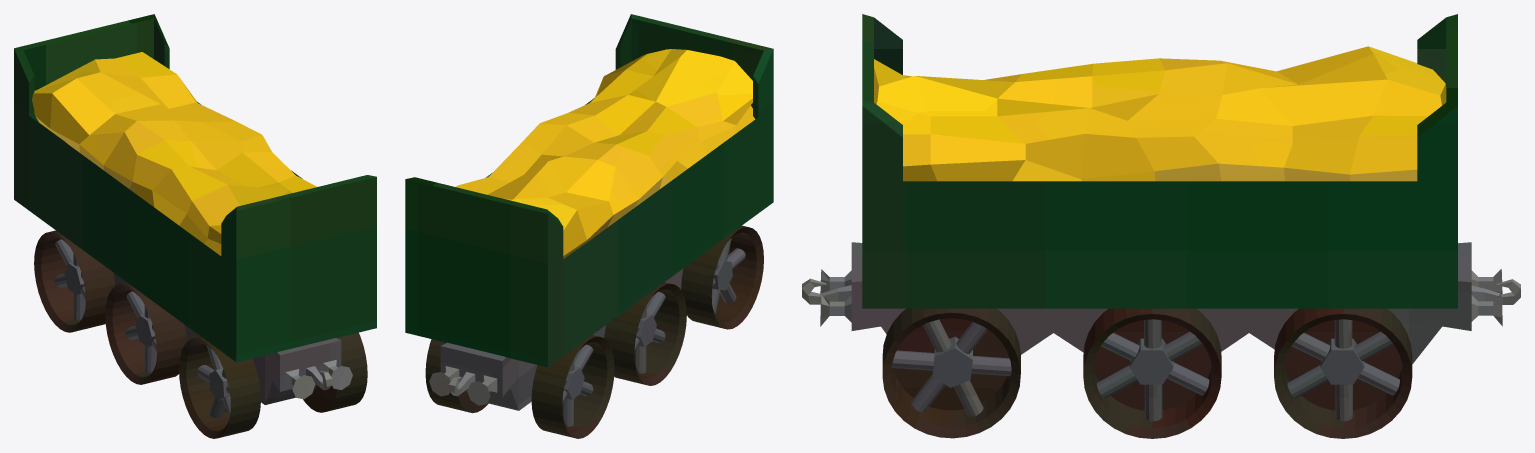
The model's file is vagao-ouro.glb.
The picture shows the model from 3 angles, left to right: view 1: azimuth 30°, elevation 25°; view 2: azimuth 150°, elevation 25°; view 3: azimuth 270°, elevation 25°; orthographic projection. The views are drawn at different scales.
Parts seen in each view (by area): view 1: corpo, ouro, rodas frente, rodas meio, rodas traseira, segura roda; view 2: corpo, ouro, rodas traseira, rodas frente, rodas meio, segura roda; view 3: corpo, ouro, rodas meio, rodas traseira, rodas frente, segura roda.
Part boxes in pixels (<box>): corpo: <box>14,14,376,362</box>; ouro: <box>32,52,316,255</box>; rodas frente: <box>179,332,367,438</box>; rodas meio: <box>105,282,186,384</box>; rodas traseira: <box>34,230,115,332</box>; segura roda: <box>113,272,352,404</box>; corpo: <box>405,14,773,367</box>; ouro: <box>456,49,755,258</box>; rodas traseira: <box>425,335,614,438</box>; rodas frente: <box>681,225,763,329</box>; rodas meio: <box>604,282,686,385</box>; segura roda: <box>429,269,683,410</box>; corpo: <box>862,14,1457,308</box>; ouro: <box>874,46,1446,181</box>; rodas meio: <box>1083,308,1221,438</box>; rodas traseira: <box>1274,308,1412,438</box>; rodas frente: <box>882,308,1020,438</box>; segura roda: <box>802,242,1520,363</box>.
Bounding box in the file's own units: 12.46 × 20.81 × 40.46.
Materials: 1 (1 with a texture image).
